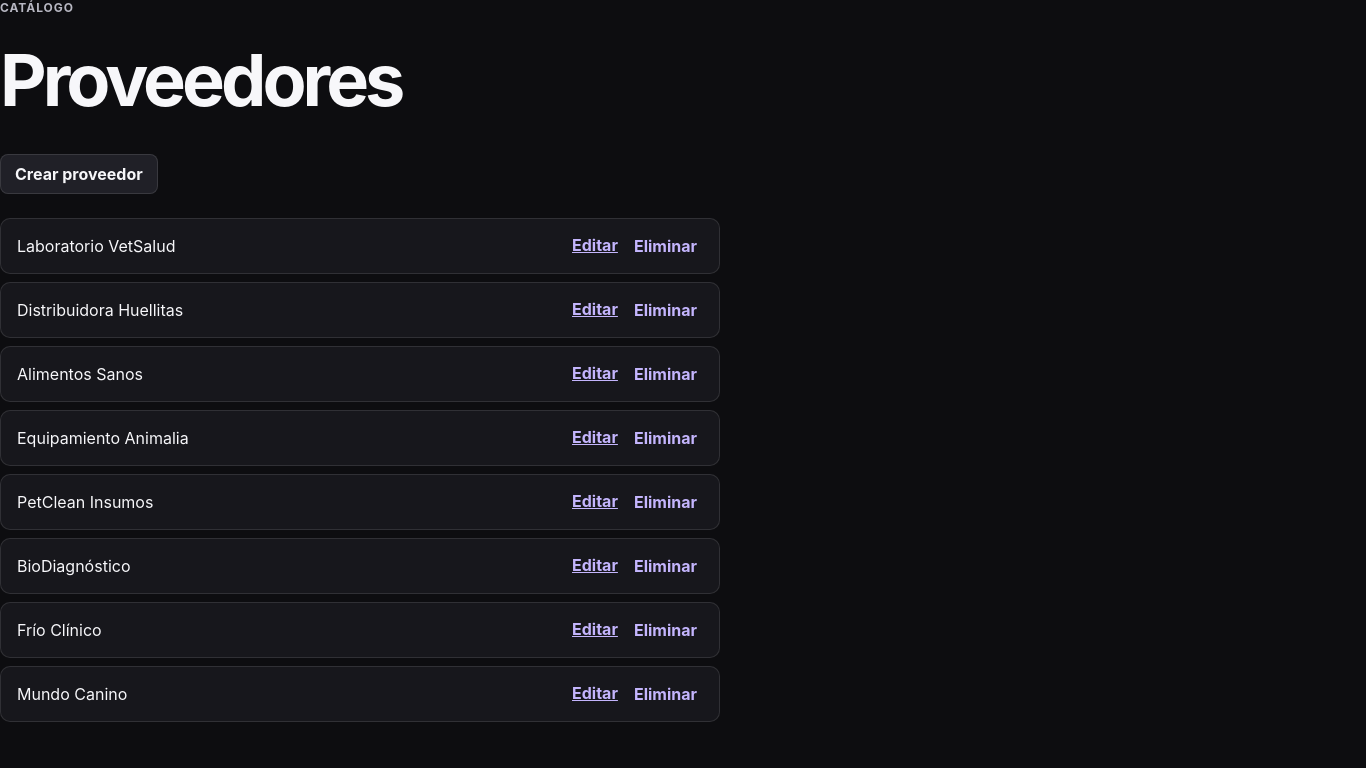
Scenario: SupplierPage › removes a confirmed deletion from the active list after the provider publishes a revision
Click the button with aria-label "Eliminar Laboratorio VetSalud".
click(665, 246)  # box [628,235,703,257]
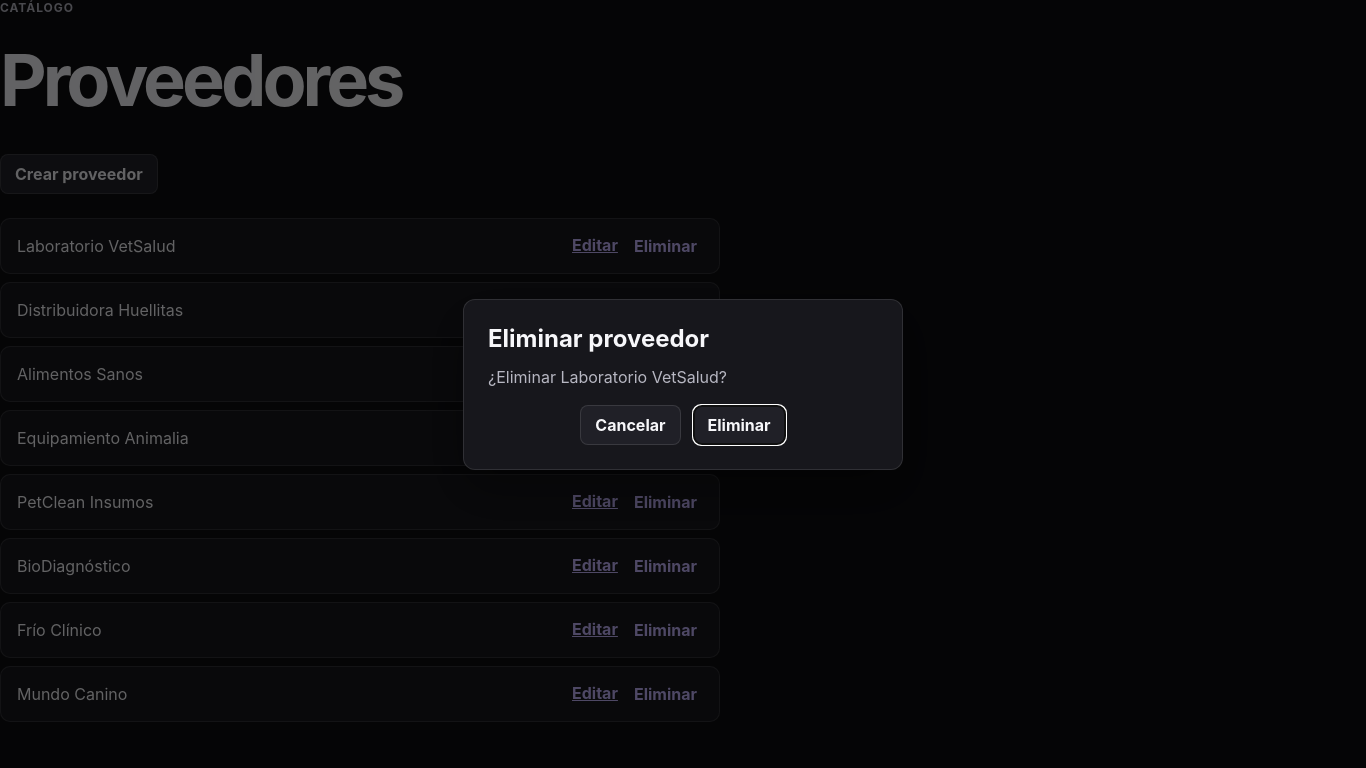
Click the button "Eliminar".
click(739, 424)  # box [692,404,786,444]
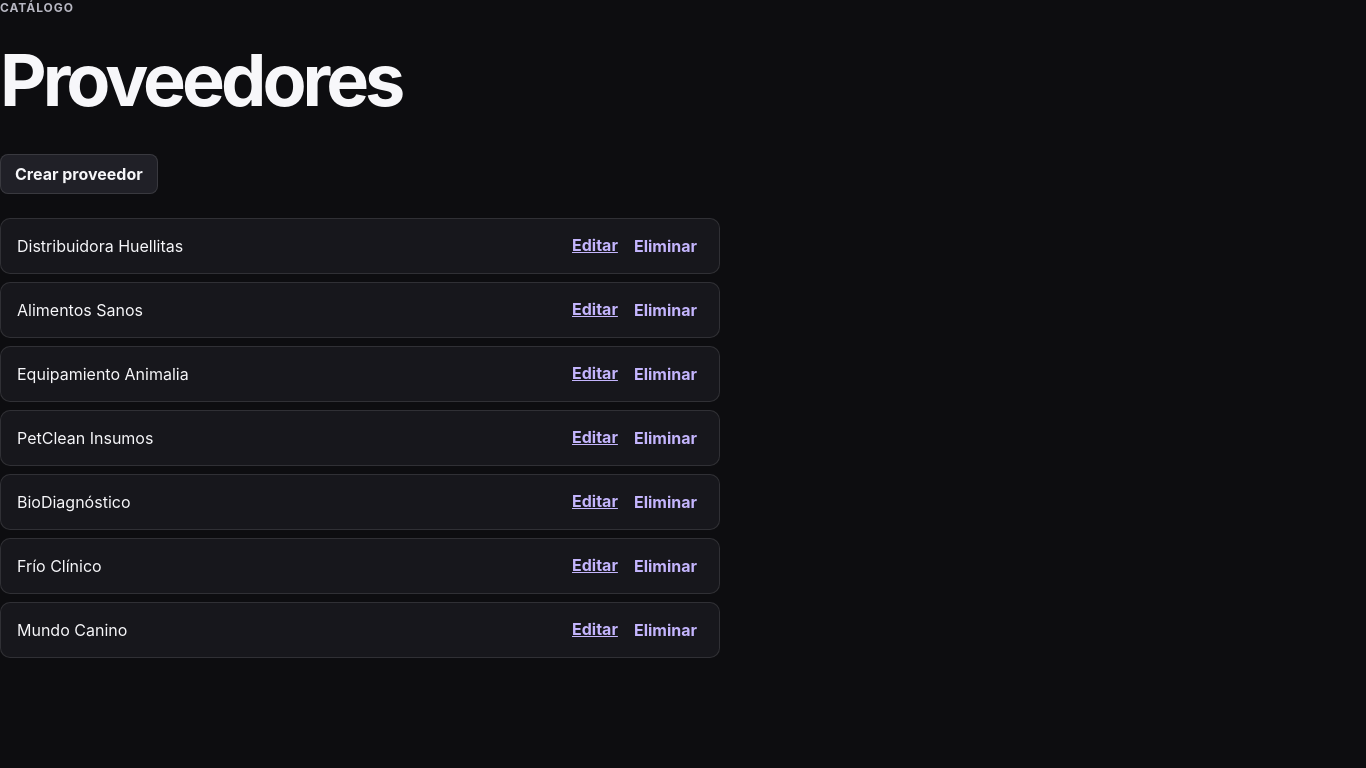
Expected: the text "Distribuidora Huellitas" is shown, [17,236,183,256]
Now the text "Laboratorio VetSalud" is gone
